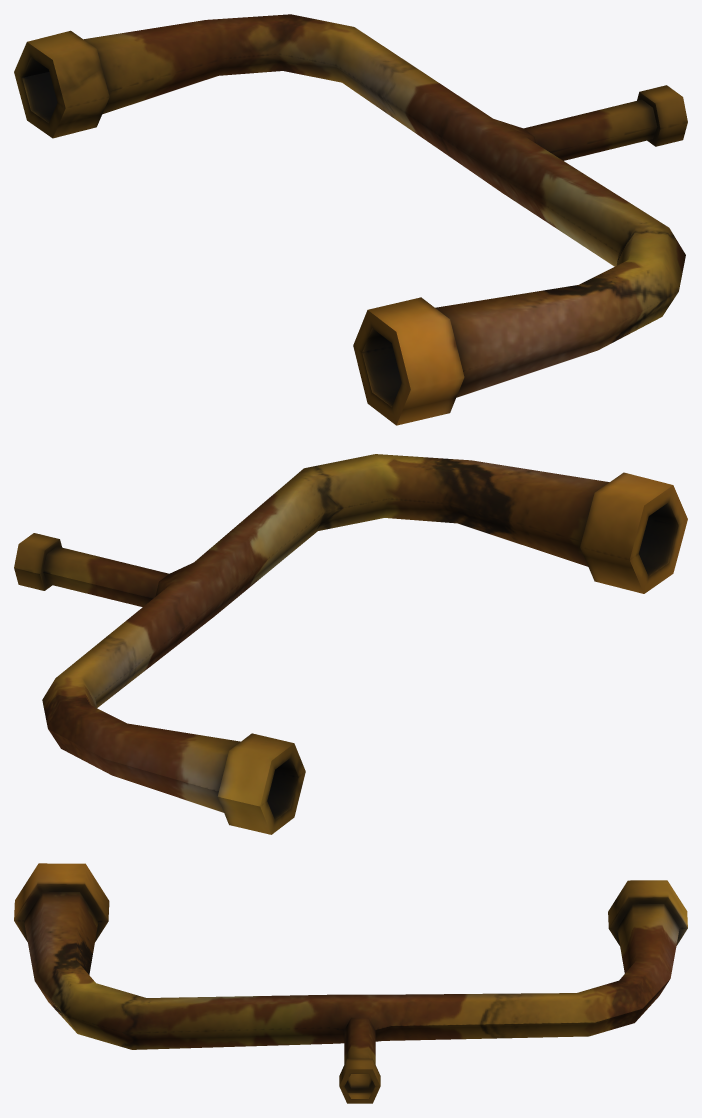
File: MESH_AMB34_tuyau8.fbx
3 views of the same model, one above another, from view 1: azimuth 30°, elevation 25°; view 2: azimuth 150°, elevation 25°; view 3: azimuth 270°, elevation 25° (orthographic). The views are drawn at different scales.
Visible parts, largest first — view 1: tuyau8; view 2: tuyau8; view 3: tuyau8.
Part boxes in pixels (bbox=[...]): tuyau8: bbox=[14, 14, 687, 425]; tuyau8: bbox=[14, 454, 687, 834]; tuyau8: bbox=[14, 863, 687, 1103].
Bounding box in the file's own units: 20.81 × 3.87 × 31.85.
Materials: 1 (1 with a texture image).
